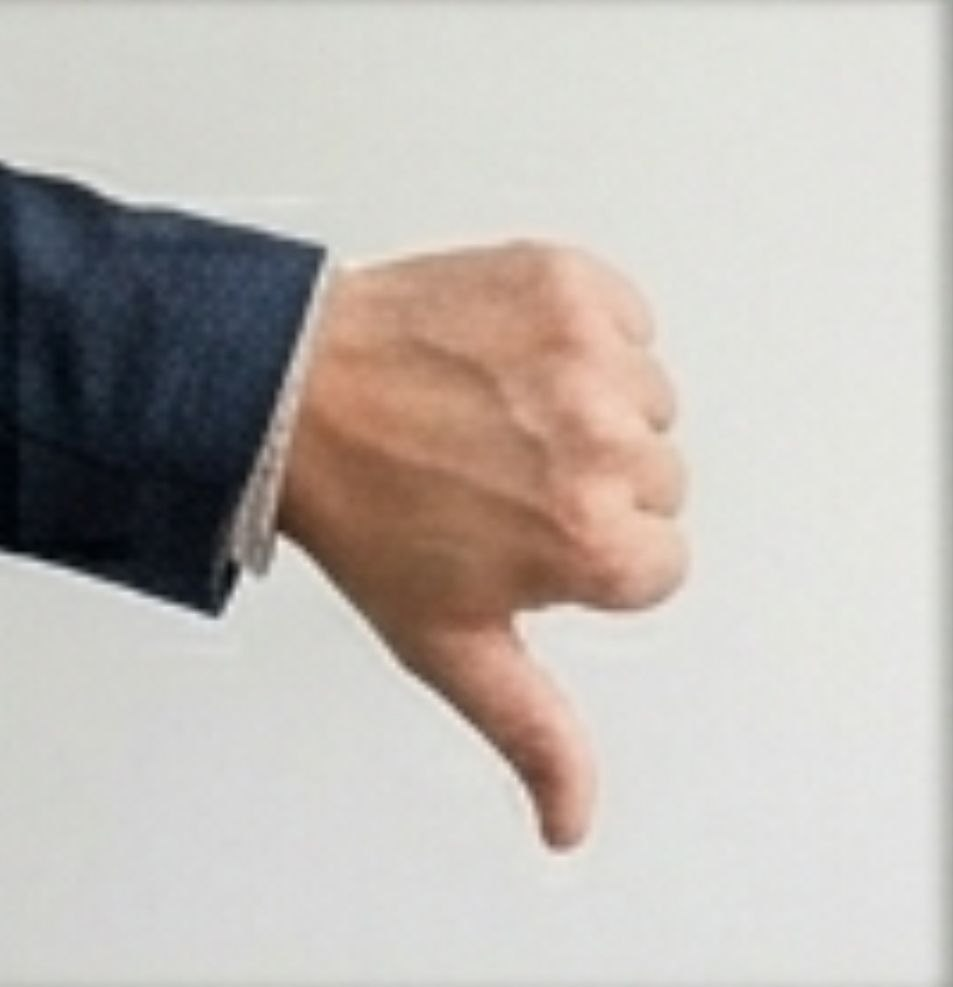Thumbs down: (315, 219, 713, 874)
